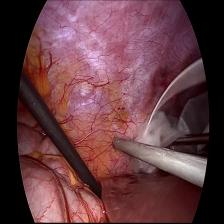Irrigator: (111, 133, 132, 157)
Specimen Bag: (135, 73, 213, 149)
